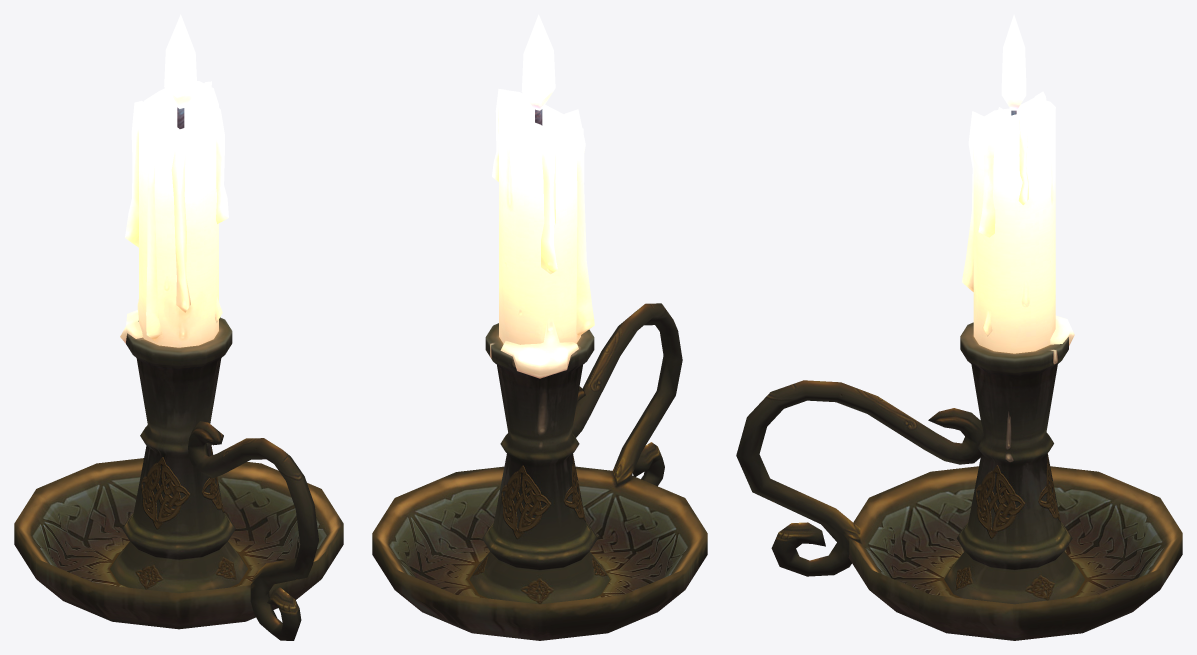
File: candlestick.glb
The picture shows the model from 3 angles, left to right: view 1: azimuth 30°, elevation 25°; view 2: azimuth 150°, elevation 25°; view 3: azimuth 270°, elevation 25°; orthographic projection. The views are drawn at different scales.
Parts seen in each view (by area): view 1: Object_2; view 2: Object_2; view 3: Object_2.
Boxes of the visible parts, <box> form: Object_2: <box>14,14,343,640</box>; Object_2: <box>372,14,707,640</box>; Object_2: <box>736,14,1182,640</box>.
Bounding box in the file's own units: 24.96 × 46.69 × 33.15.
1 material, 1 textured.
